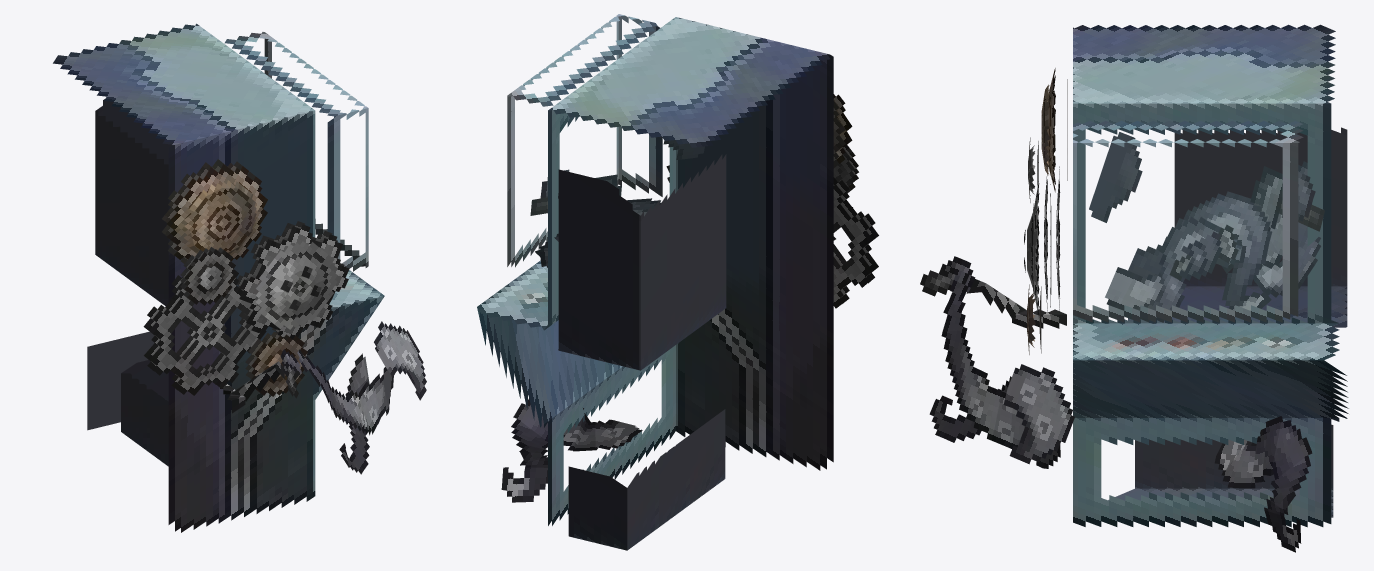
3 views of the same model, side by side, from view 1: azimuth 30°, elevation 25°; view 2: azimuth 150°, elevation 25°; view 3: azimuth 270°, elevation 25° (orthographic). The views are drawn at different scales.
Visible parts, largest first — view 1: handle, handle.001; view 2: handle, handle.001; view 3: handle, handle.001.
Part boxes in pixels (<box>): handle: <box>53,23,384,532</box>; handle.001: <box>143,159,426,474</box>; handle: <box>477,14,833,550</box>; handle.001: <box>501,94,878,502</box>; handle: <box>1012,24,1348,527</box>; handle.001: <box>920,68,1324,552</box>.
Size of the model in its own units: 0.8357 by 1.12 by 1.02.
1 material, 1 textured.
